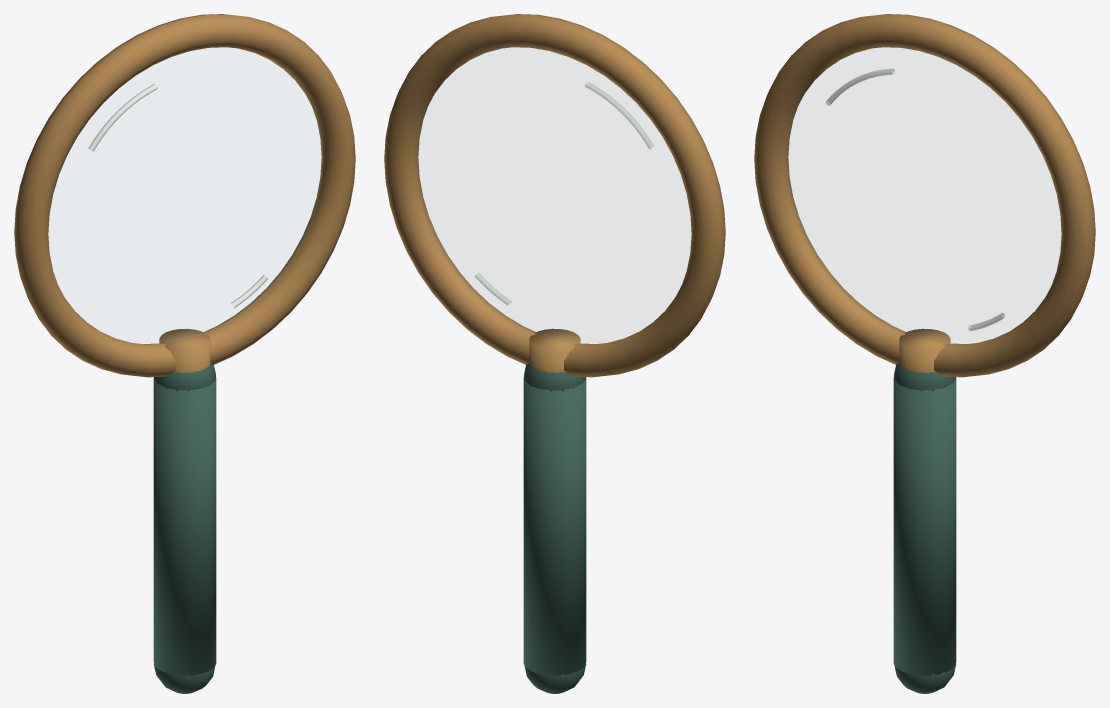
Rendered from magnifier.glb.
3 renders of one model, left to right at view 1: azimuth 30°, elevation 25°; view 2: azimuth 150°, elevation 25°; view 3: azimuth 330°, elevation 25°, orthographic.
Parts seen in each view (by area): view 1: BrassRim, JadeGrip, GripCollar, Rounded grip end.001, Rounded grip end, LensGlint0; view 2: BrassRim, JadeGrip, GripCollar, Rounded grip end.001, Rounded grip end, LensGlint0; view 3: BrassRim, JadeGrip, GripCollar, Rounded grip end.001, Rounded grip end.
Part boxes in pixels (bbox=[...]): BrassRim: bbox=[14, 14, 355, 377]; JadeGrip: bbox=[153, 377, 216, 675]; GripCollar: bbox=[159, 328, 210, 373]; Rounded grip end.001: bbox=[154, 363, 215, 391]; Rounded grip end: bbox=[153, 664, 215, 693]; LensGlint0: bbox=[88, 84, 157, 151]; BrassRim: bbox=[384, 14, 725, 377]; JadeGrip: bbox=[523, 377, 586, 675]; GripCollar: bbox=[529, 328, 580, 373]; Rounded grip end.001: bbox=[524, 363, 585, 391]; Rounded grip end: bbox=[524, 664, 586, 693]; LensGlint0: bbox=[585, 81, 654, 149]; BrassRim: bbox=[754, 14, 1095, 377]; JadeGrip: bbox=[893, 377, 956, 675]; GripCollar: bbox=[899, 328, 950, 373]; Rounded grip end.001: bbox=[894, 363, 955, 391]; Rounded grip end: bbox=[894, 664, 956, 693].
Size of the model in its own units: 0.136 by 0.259 by 0.022.
